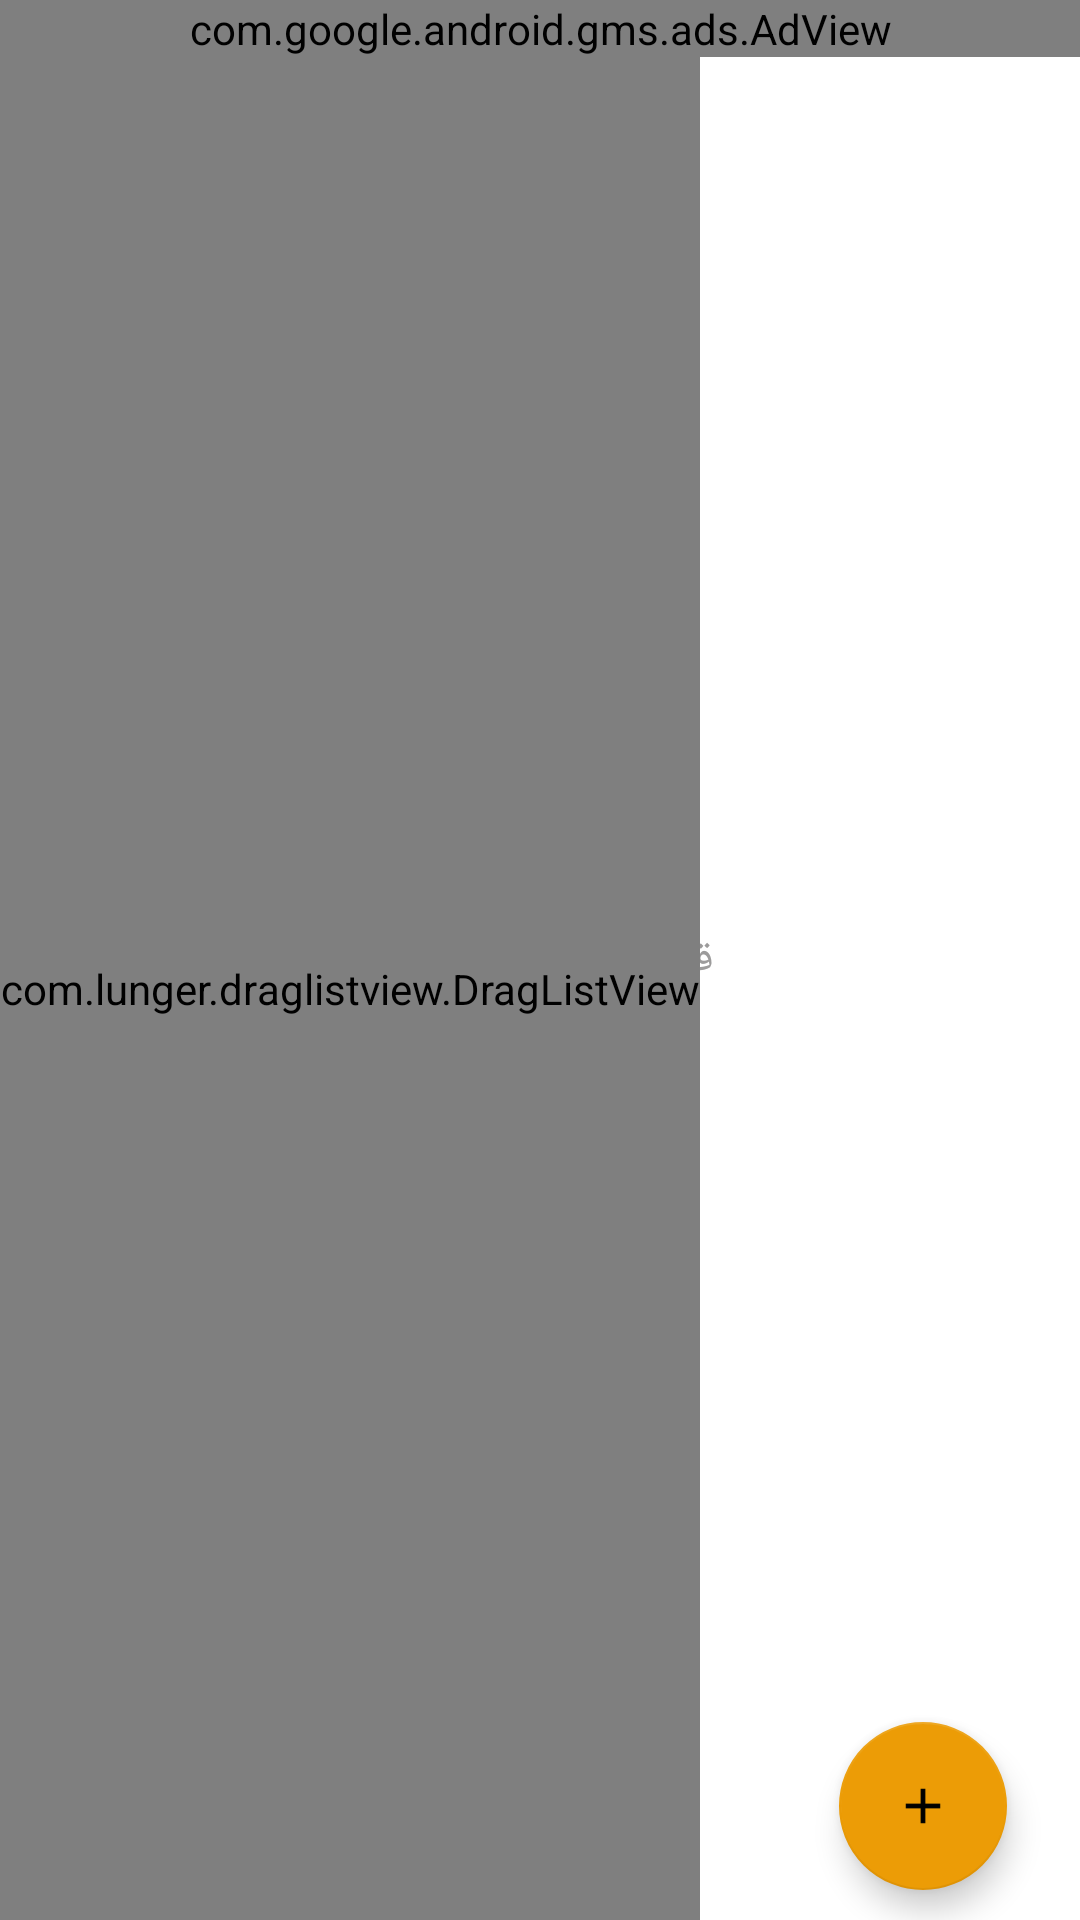

Locate icon controls on the screen. Image size 1080px×1920px, boxes as box=[x1, y1, x2, y2].
myplus: box=[839, 1722, 1007, 1890]
